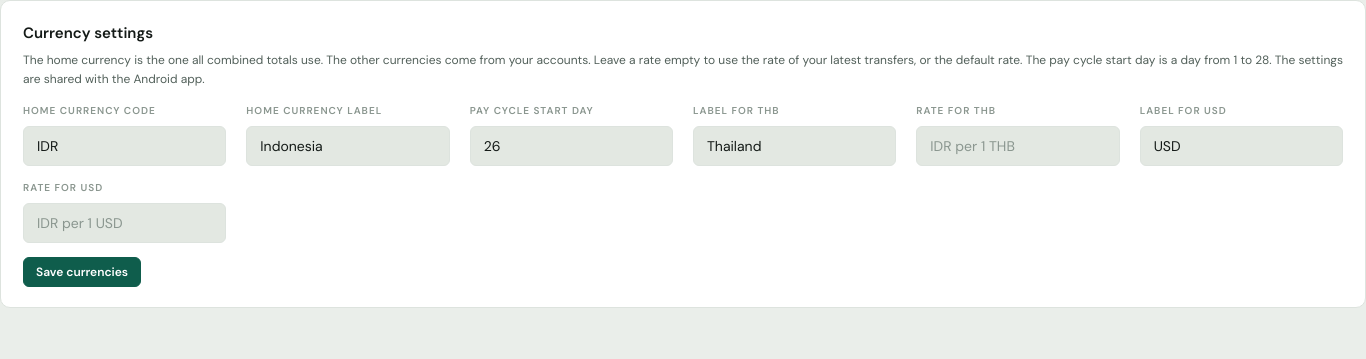
saves an edited label and rate
Replace the text in the field labelled "Label for USD" with "United States" at (1241, 146), box 1140,126 -> 1343,166
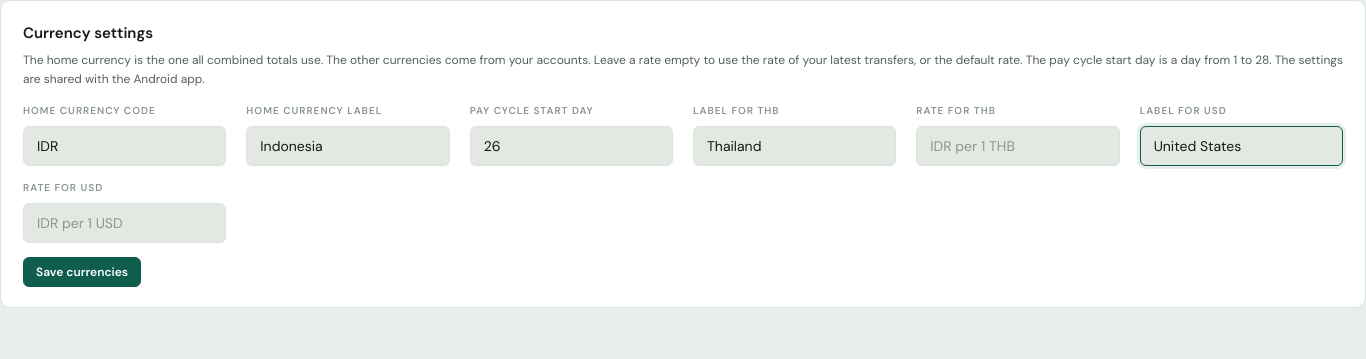
Type "16000" into the number field labelled "Rate for USD".
click(125, 223); type("16000")  # box 23,203 -> 226,243
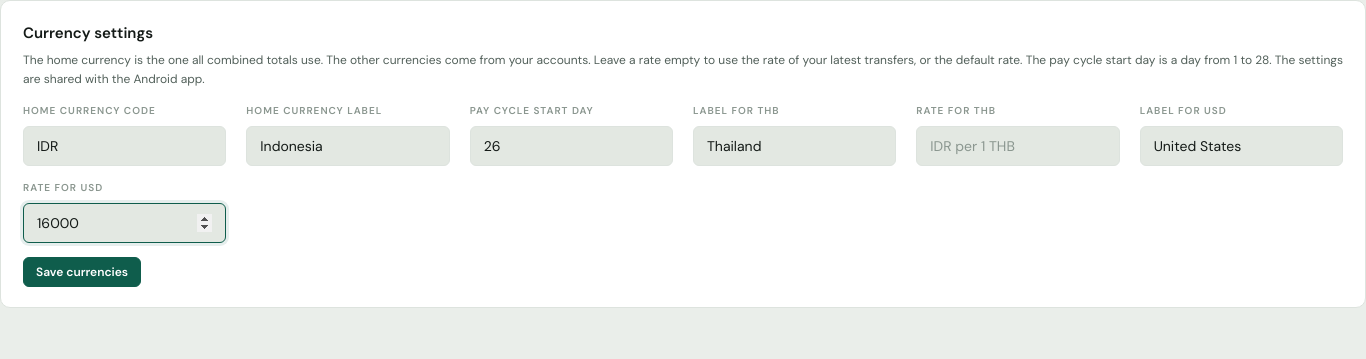
Type "480" into the number field labelled "Rate for THB".
click(1018, 146); type("480")  # box 916,126 -> 1120,166
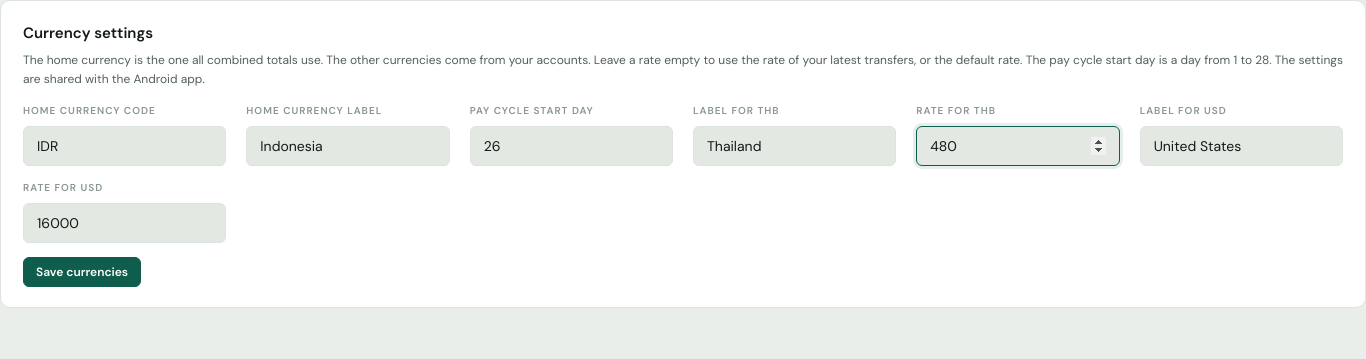
Click the button "Save currencies".
click(82, 272)  # box 23,257 -> 141,287
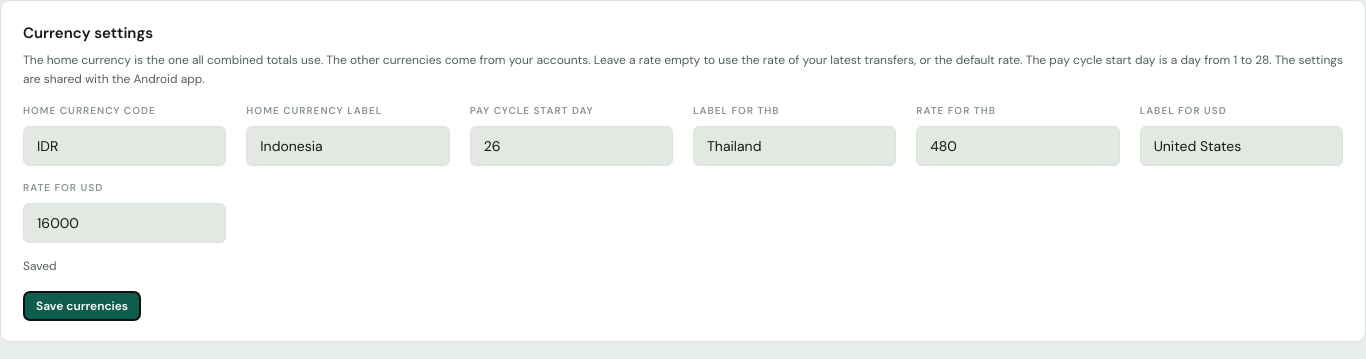
Expected: the message reads "Saved", 23,258 -> 57,274
